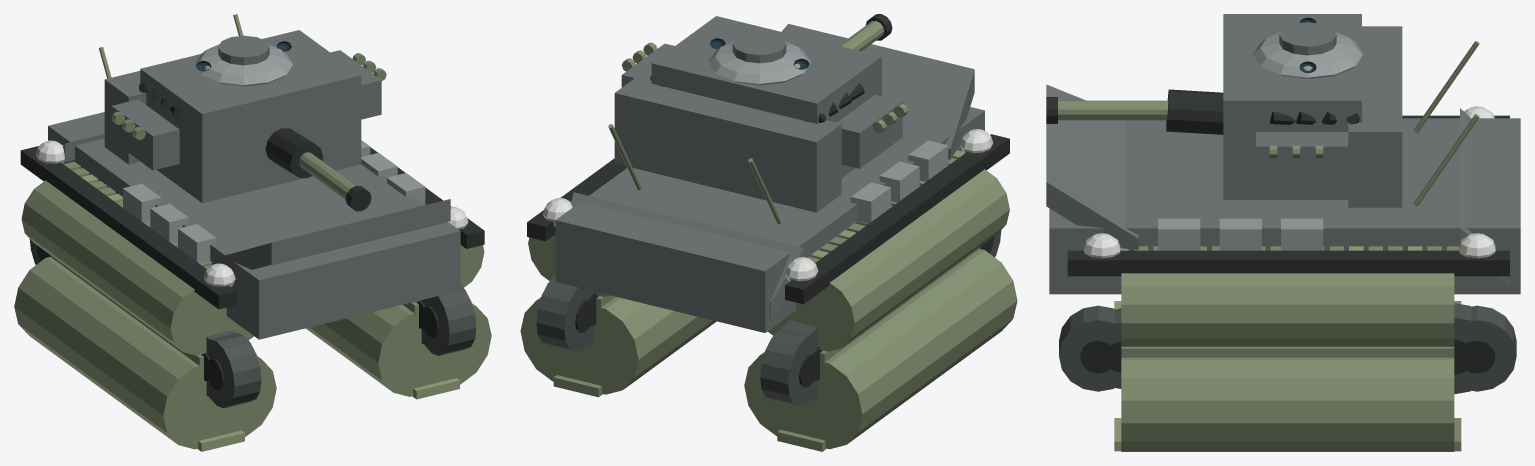
The model's file is leopard-2ri.glb.
3 renders of one model, left to right at view 1: azimuth 30°, elevation 25°; view 2: azimuth 150°, elevation 25°; view 3: azimuth 270°, elevation 25°, orthographic. The views are drawn at different scales.
Parts seen in each view (by area): view 1: leopard-2ri; view 2: leopard-2ri; view 3: leopard-2ri.
Boxes of the visible parts, x1=… form: leopard-2ri: x1=14, y1=14, x2=491, y2=451; leopard-2ri: x1=520, y1=14, x2=1017, y2=451; leopard-2ri: x1=1046, y1=14, x2=1520, y2=451.
Bounding box in the file's own units: 2.2 × 1.99 × 2.46.
